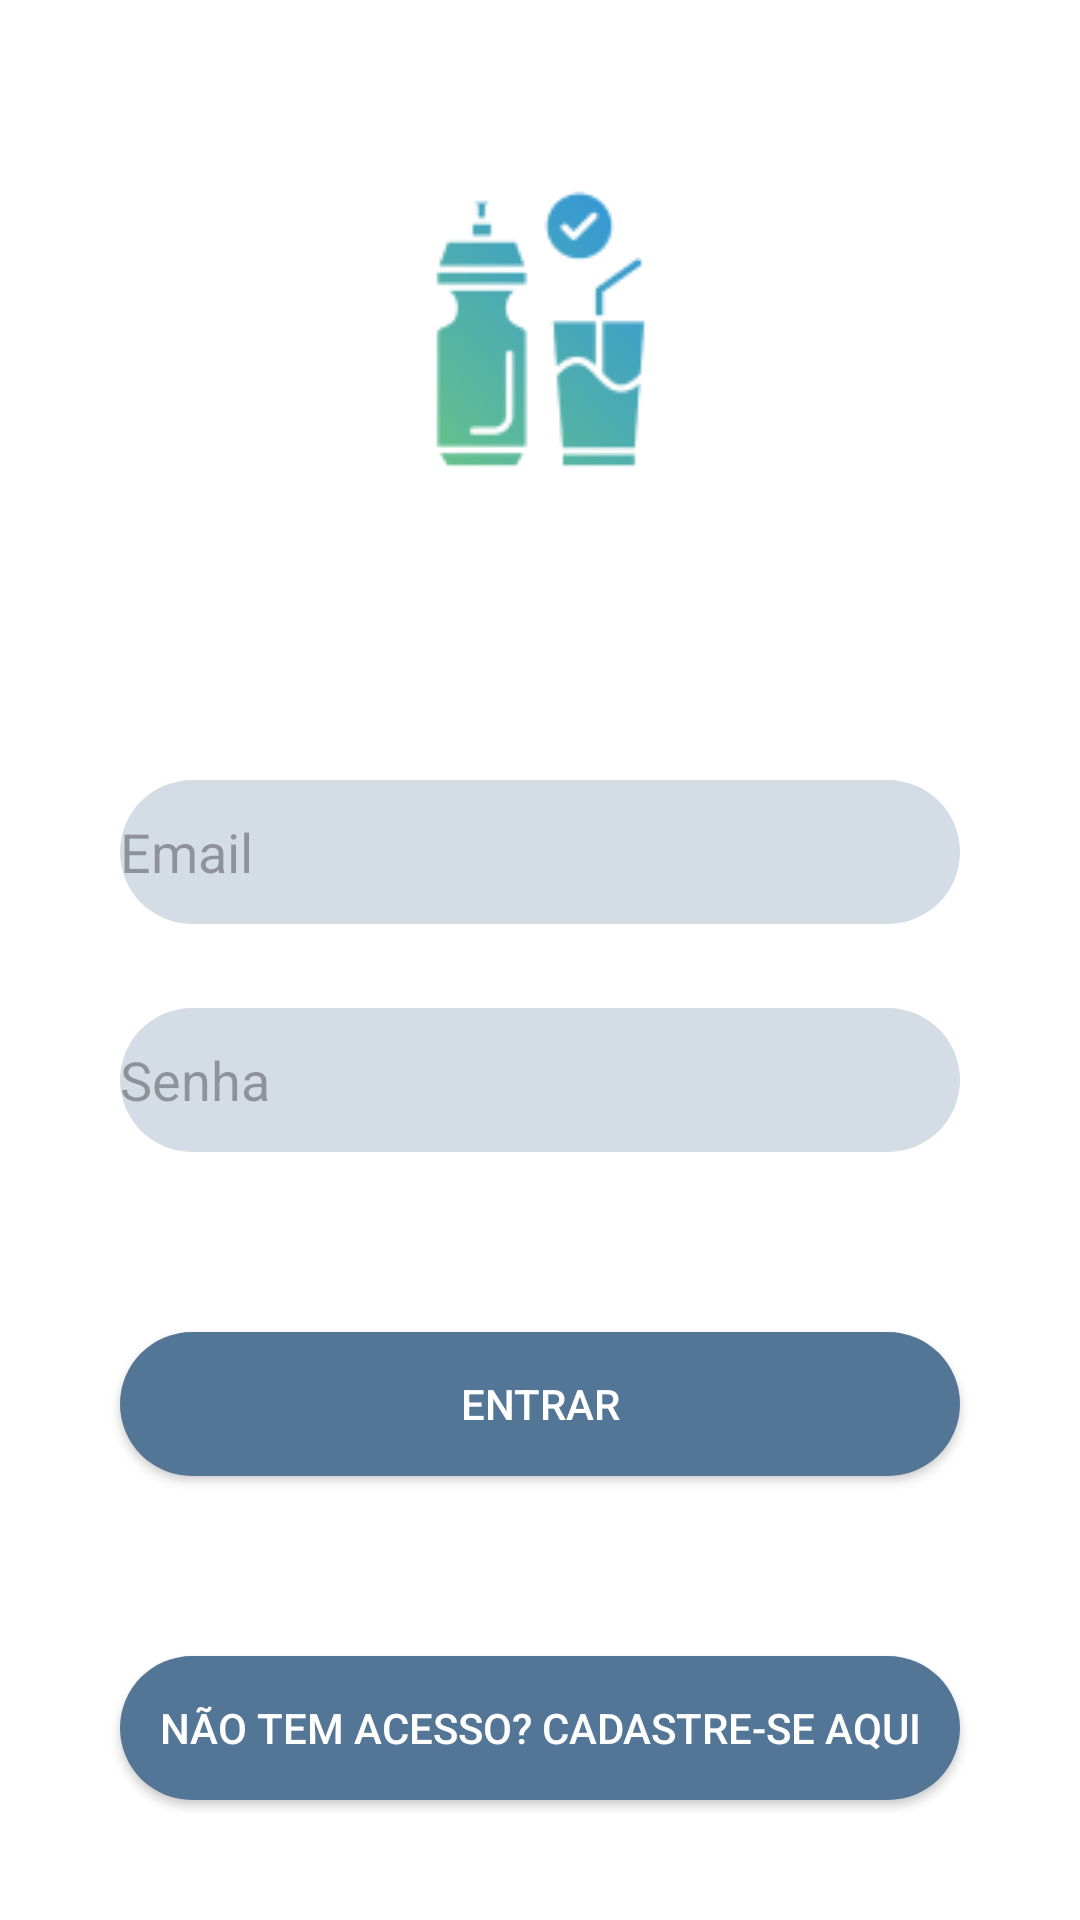

Screen size 1080px×1920px. Icon name, then its box in pixels as (x1, y1, x2, y2):
waterconsumption: (436, 191, 645, 466)
